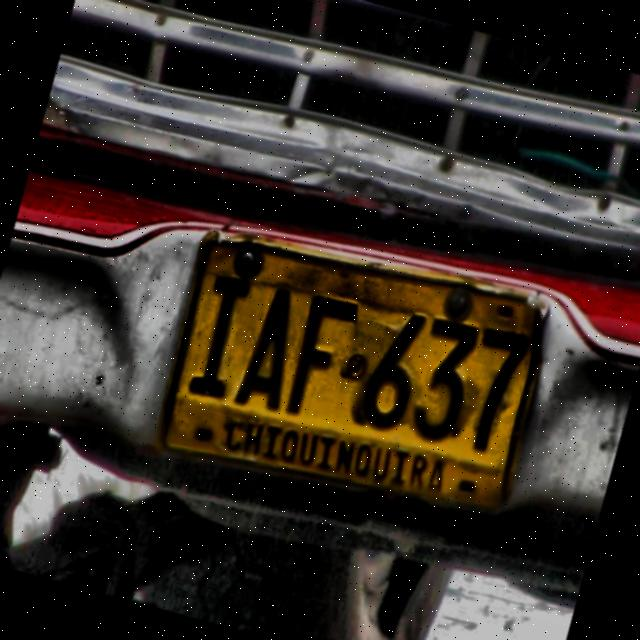3: (402, 316, 484, 448)
6: (353, 304, 432, 436)
7: (452, 326, 528, 456)
A: (230, 280, 312, 416)
F: (278, 288, 358, 423)
I: (178, 267, 260, 403)
